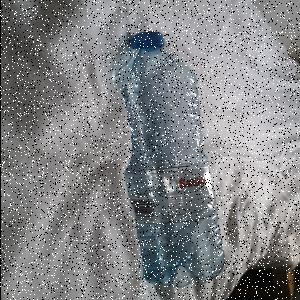Plastic-bottle: (112, 31, 226, 290)
